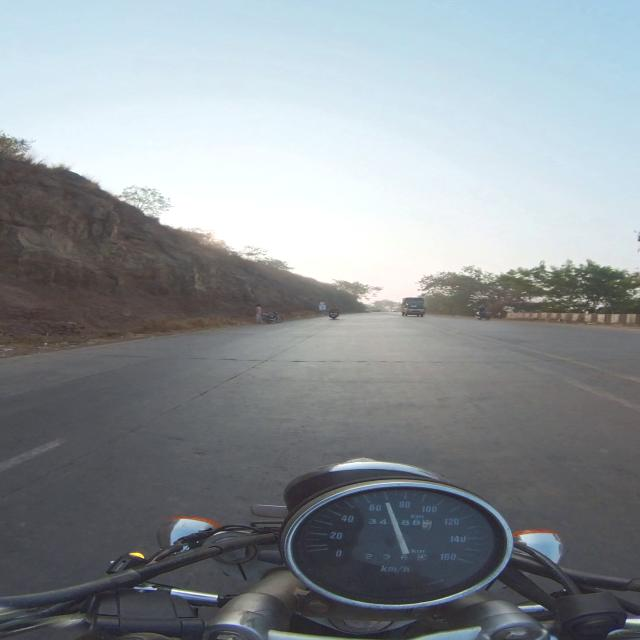motorcycle: (0, 459, 639, 639), (262, 311, 283, 323), (476, 311, 490, 320), (329, 312, 339, 319)
